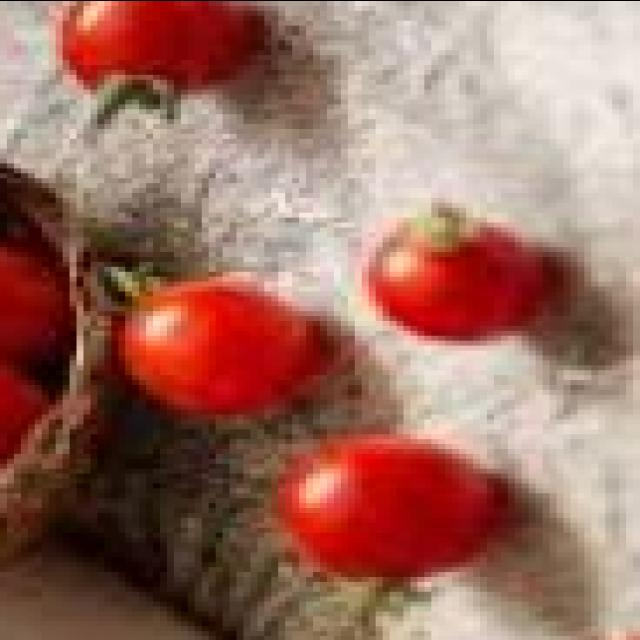Healthy: (269, 436, 487, 592), (111, 284, 332, 420), (354, 206, 532, 374), (41, 0, 215, 98)
